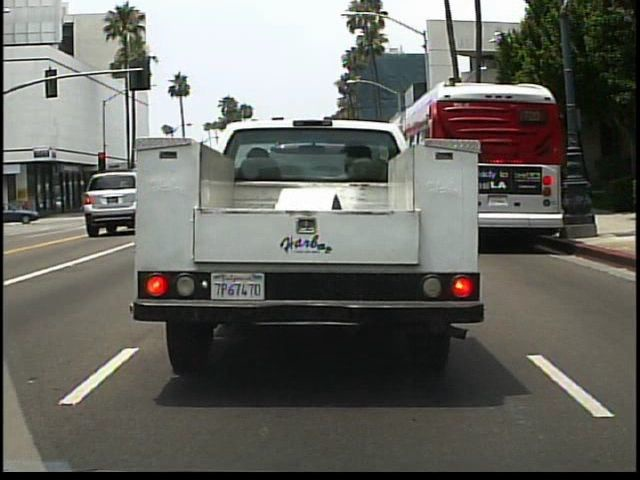person: (25, 192, 30, 226)
